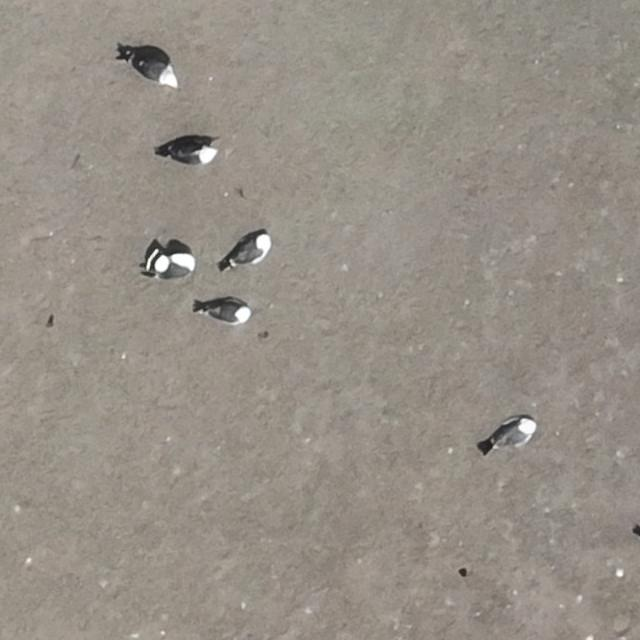umineko: (132, 55, 178, 84), (149, 254, 200, 276), (229, 236, 269, 262), (495, 421, 531, 446), (208, 302, 250, 322), (168, 146, 214, 164)
